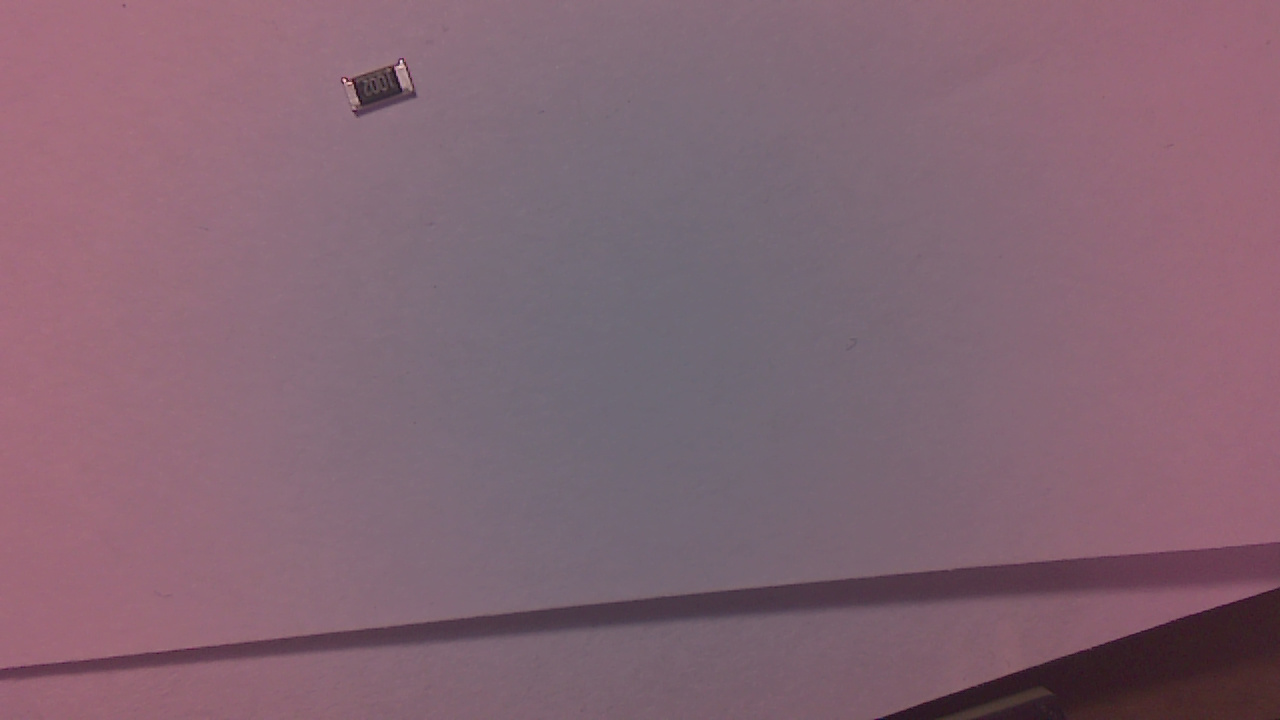Resistor: (344, 64, 423, 124)
